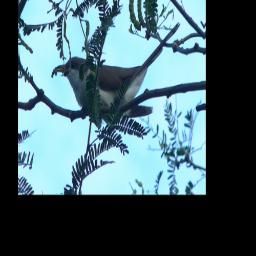Cuckoo: (52, 20, 185, 132)
